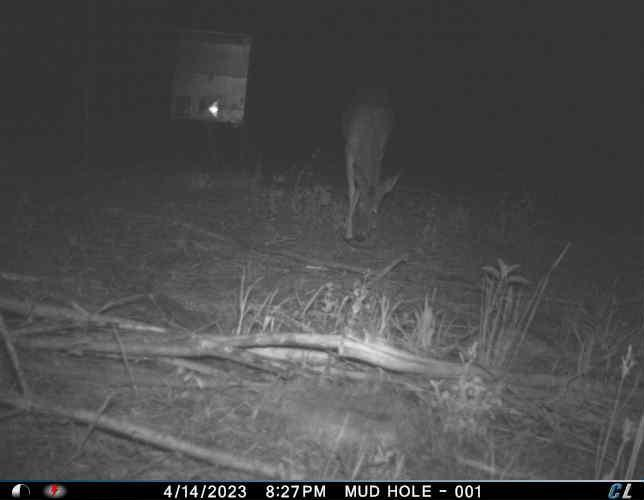Deer: (339, 83, 404, 247)
